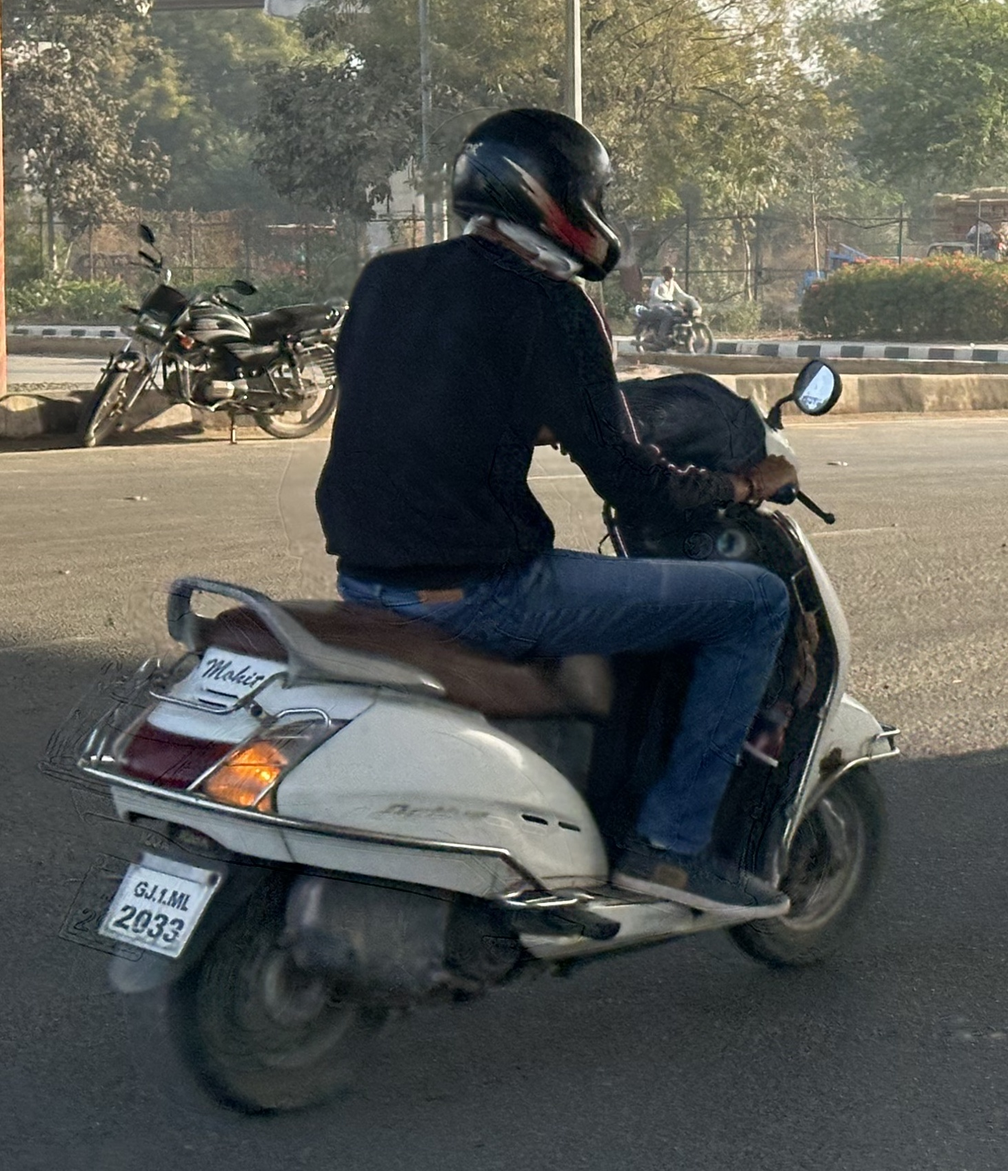BikeWithRider: (28, 92, 920, 1132)
Helmet: (433, 94, 638, 290)
